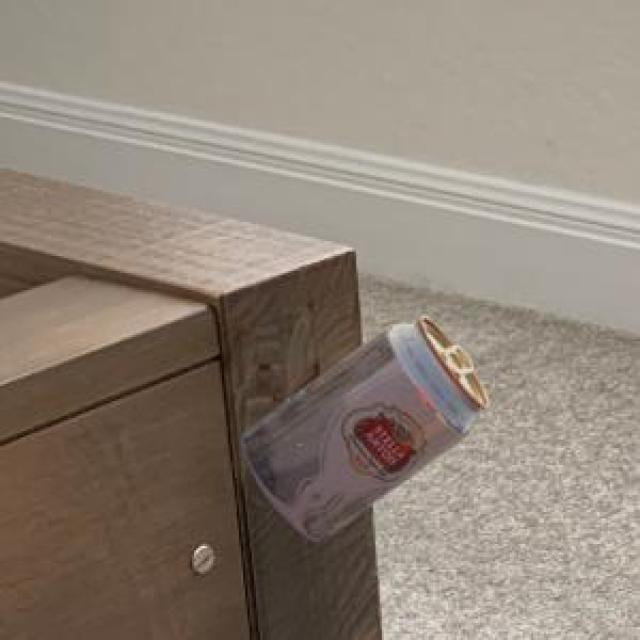Can: (238, 313, 485, 539)
